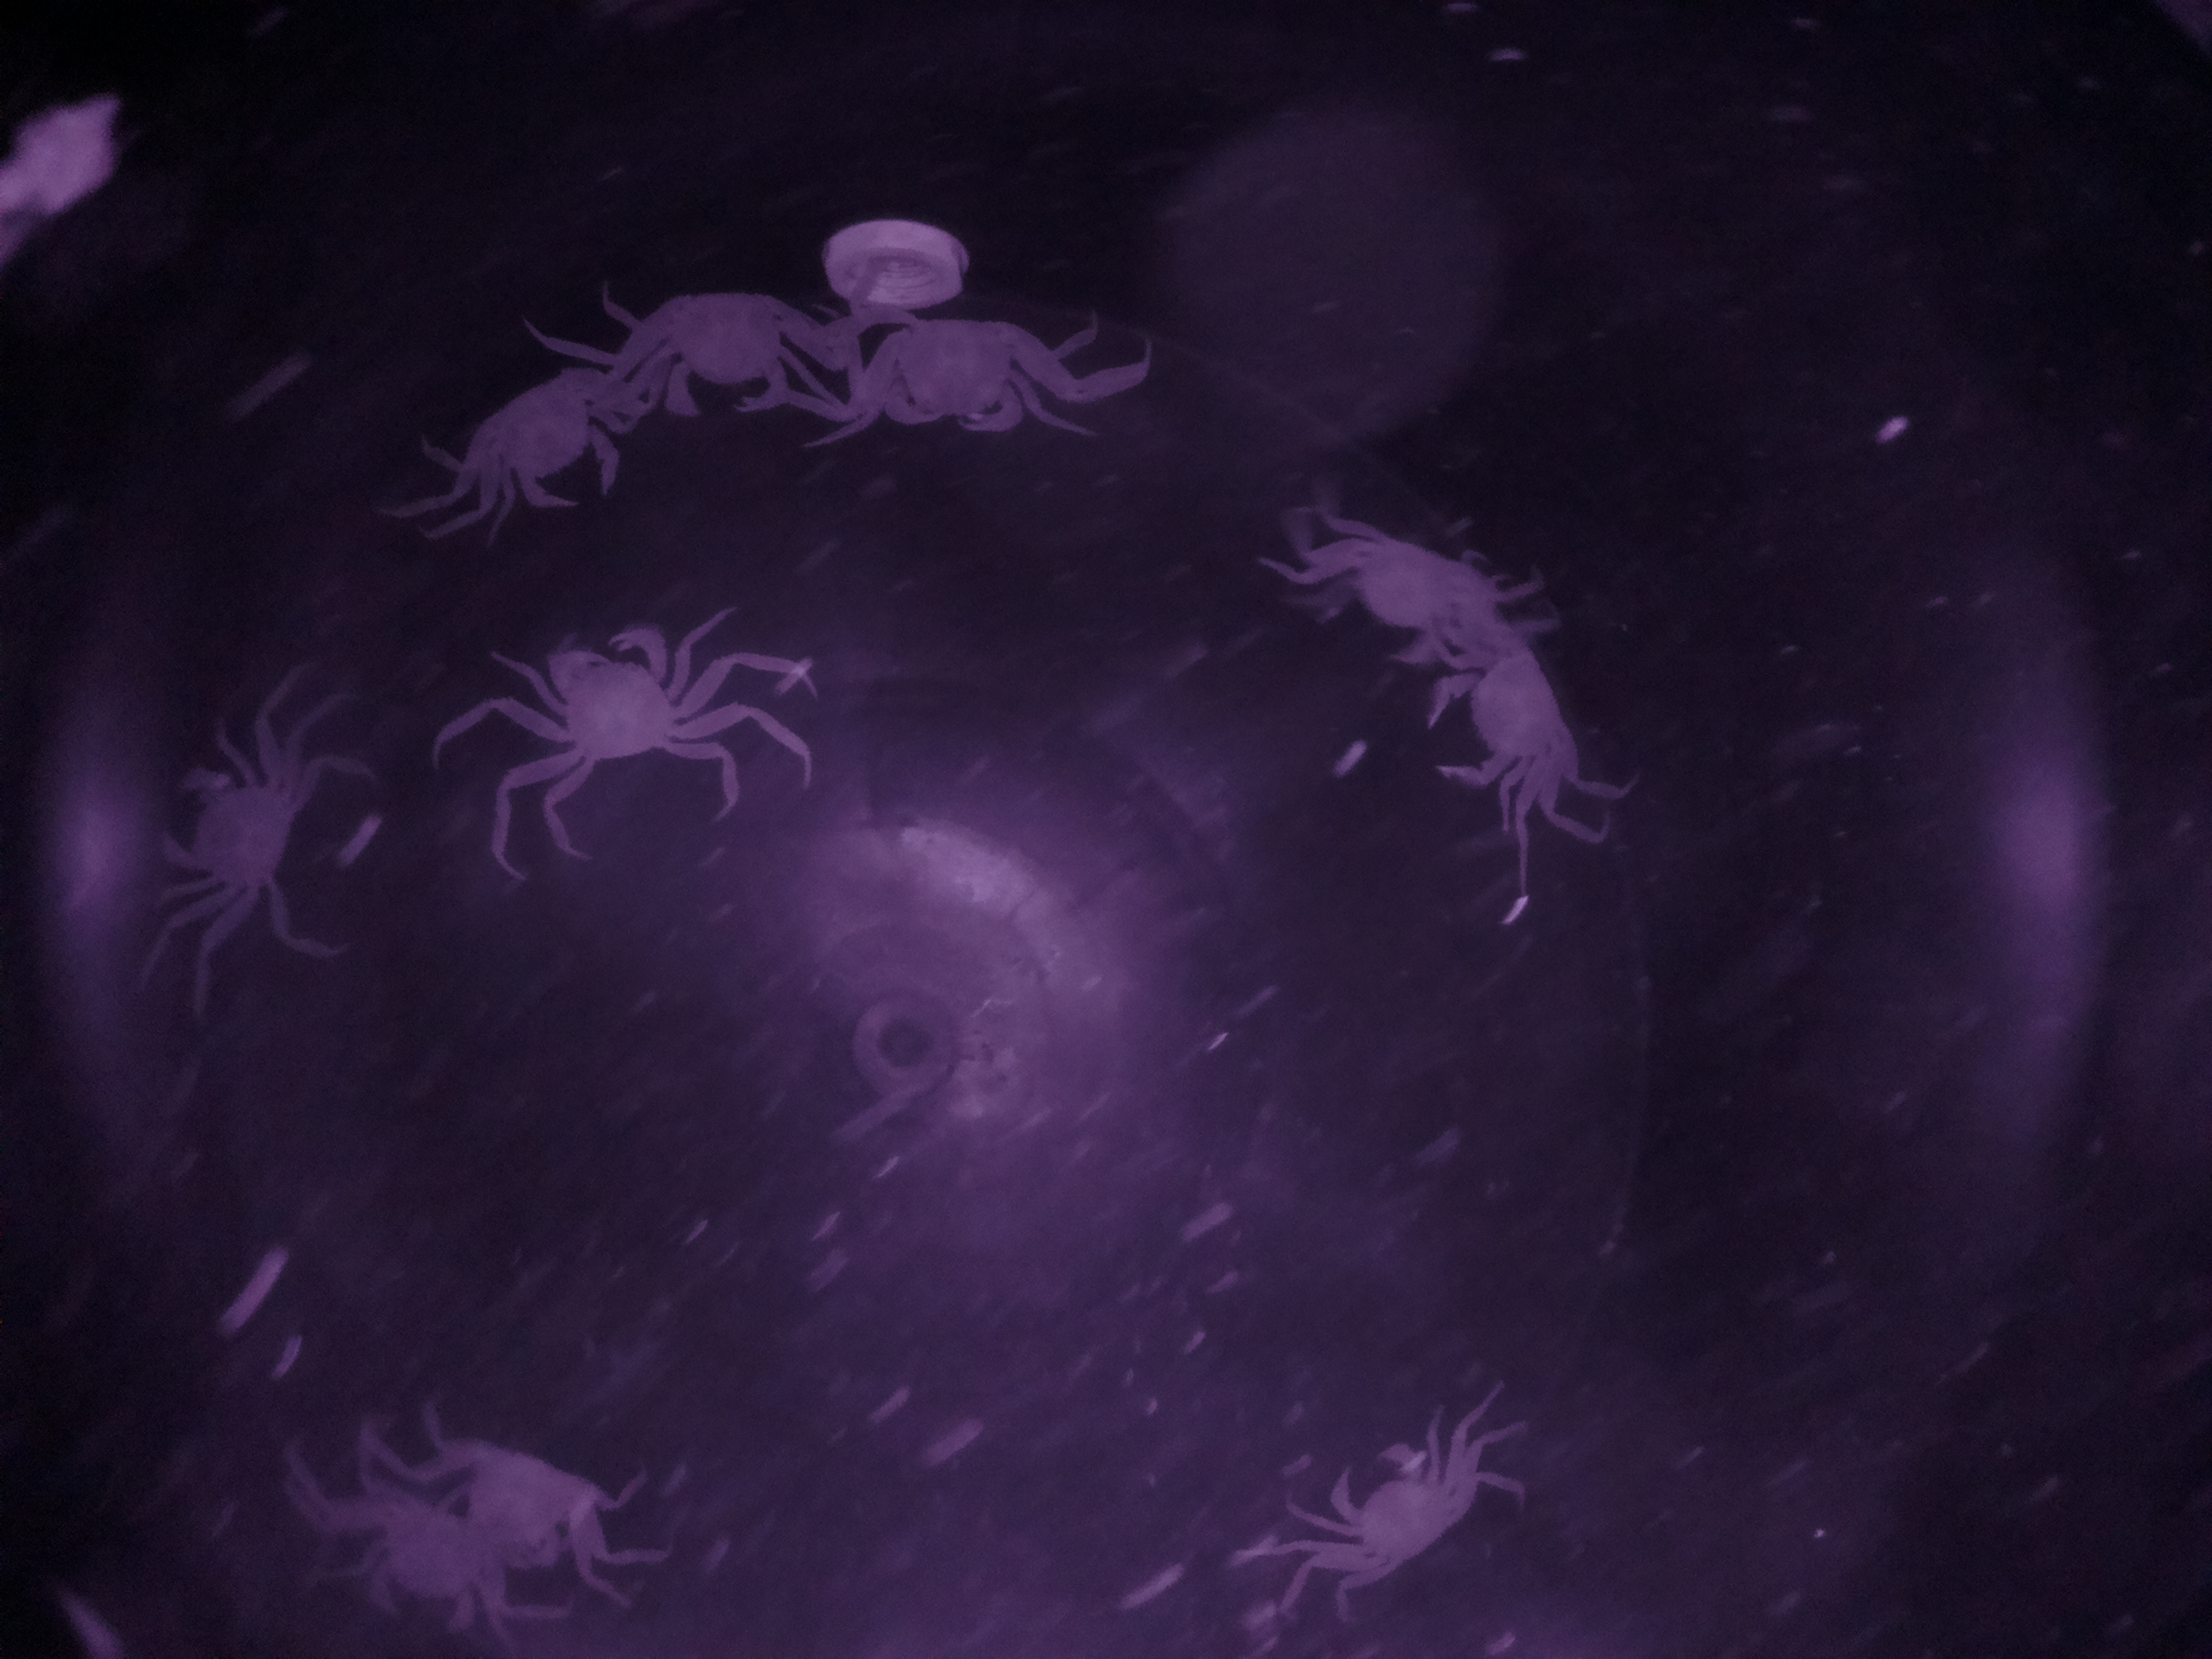Crab: (1409, 612, 1634, 817), (1292, 1420, 1493, 1605), (502, 610, 709, 775), (632, 270, 822, 441), (862, 293, 1055, 451), (462, 357, 629, 538), (150, 732, 310, 917)
